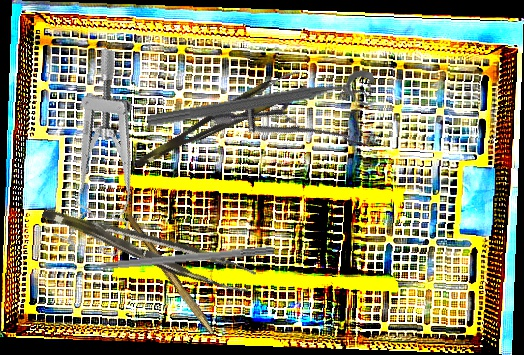Fixation Ring: (145, 68, 379, 146)
Pusher: (62, 243, 276, 274)
Scalpel Handle: (122, 212, 220, 337)
Speculum: (35, 46, 182, 261), (210, 40, 398, 208)
Tissue Forceps: (41, 183, 257, 306), (127, 67, 309, 170)
